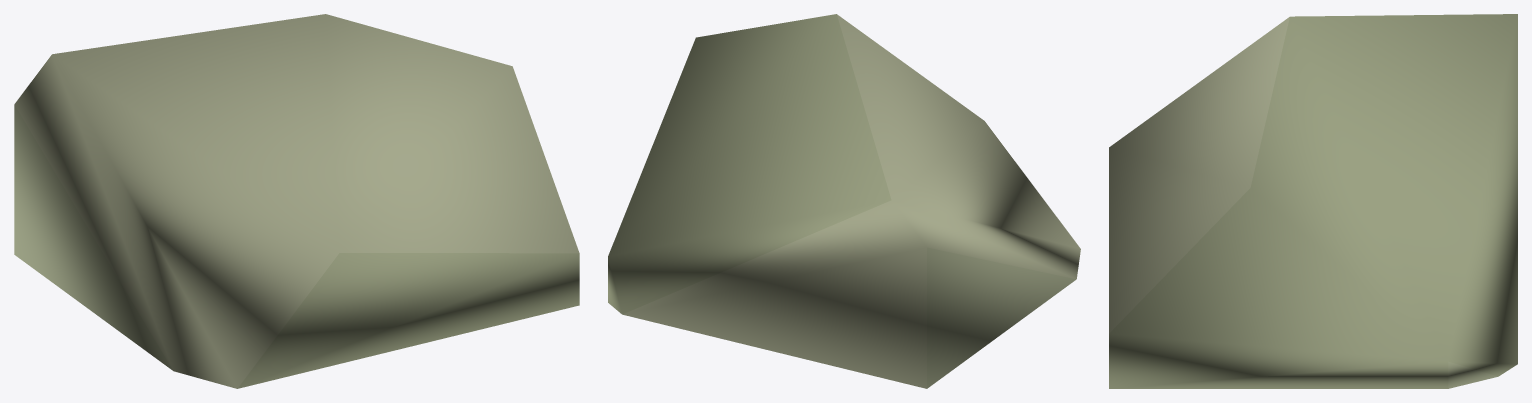
The model's file is lrock3.glb.
3 views of the same model, side by side, from view 1: azimuth 30°, elevation 25°; view 2: azimuth 150°, elevation 25°; view 3: azimuth 270°, elevation 25° (orthographic). The views are drawn at different scales.
Parts seen in each view (by area): view 1: lrock3; view 2: lrock3; view 3: lrock3.
Boxes of the visible parts, x1,y1,x2,y2 form: lrock3: (14,14,579,388); lrock3: (608,14,1080,388); lrock3: (1109,14,1517,388).
Bounding box in the file's own units: 10 × 6.93 × 9.
